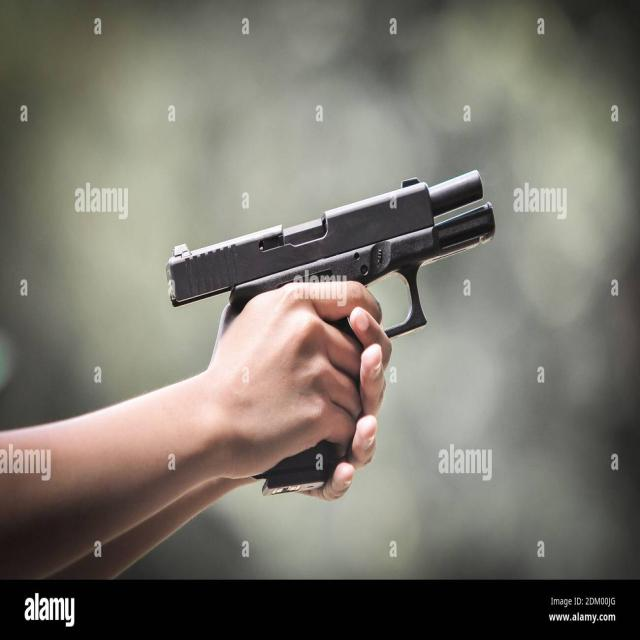HandGun: (166, 171, 497, 342)
